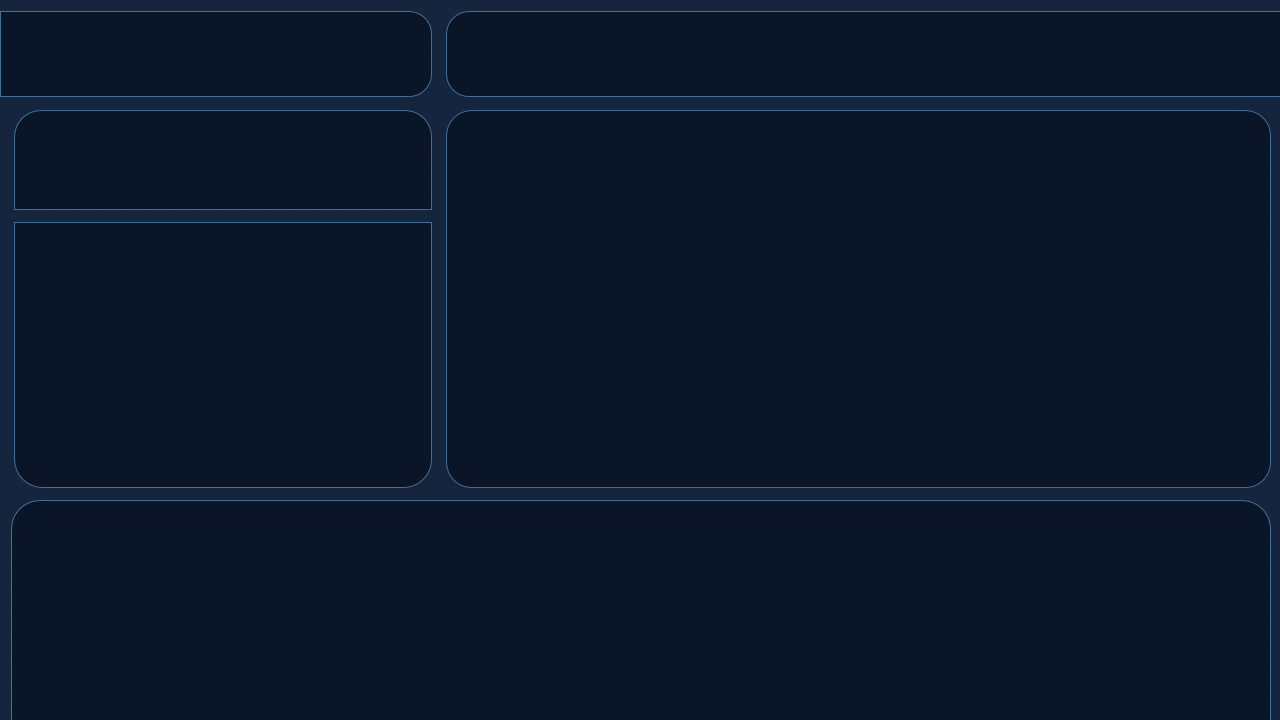

Layout of this report page (visuals, bound fields, positions):
{"tool":"powerbi","page":{"name":"Sammary Page","canvas":[1400,720],"ordinal":0},"visuals":[{"type":"card","fields":{"Values":["calculations.Latest Month Wait List"]},"box":[49.7,128,135.5,52.7],"z":0},{"type":"slicer","fields":{"Values":["calculations.Calc Method"]},"box":[1028.2,102.4,353.8,55.7],"z":1000},{"type":"donutChart","fields":{"Category":["all_data.Case_Type"],"Y":["calculations.Avg/Med Wait List"]},"box":[49.7,266.5,392.9,222.8],"z":2000},{"type":"columnChart","title":"Wait List Analysis - Time Band vs Age Profile","fields":{"Y":["calculations.Avg/Med Wait List"],"Category":["all_data.Time_Bands"],"Series":["all_data.Age_Profile"]},"box":[514.8,185.2,519.4,304.1],"z":3000},{"type":"multiRowCard","fields":{"Values":["specialityMap.Specialty_Name","calculations.Avg/Med Wait List"]},"box":[1061.3,191.2,290.5,313.1],"z":4000},{"type":"card","fields":{"Values":["calculations.NoDataLeft"]},"box":[128,543.4,436.6,147.5],"z":4500},{"type":"card","fields":{"Values":["calculations.NoDataRight"]},"box":[815.9,543.4,436.6,147.5],"z":4750},{"type":"lineChart","title":"Day Case / Inpatient","fields":{"Category":["all_data.Archive_Date"],"Y":["Sum(all_data.Total)"],"Series":["all_data.Case_Type"]},"box":[40.6,510.3,609.7,209.2],"z":5000},{"type":"lineChart","title":"Outpatient","fields":{"Category":["all_data.Archive_Date"],"Y":["Sum(all_data.Total)"],"Series":["all_data.Case_Type"]},"box":[755.7,510.3,611.2,209.2],"z":7000},{"type":"slicer","fields":{"Values":["all_data.Archive_Date"]},"box":[529.9,4.5,281.5,81.3],"z":8000},{"type":"slicer","fields":{"Values":["all_data.Case_Type"]},"box":[832.5,9,228.8,64.7],"z":9000},{"type":"slicer","fields":{"Values":["all_data.Specialty_Name"]},"box":[1094.4,9,287.5,64.7],"z":10000},{"type":"textbox","box":[75.3,49.7,290.5,40.6],"z":11000},{"type":"card","fields":{"Values":["calculations.PY Latest Month Wait List"]},"box":[308.6,128,105.4,52.7],"z":12000},{"type":"card","fields":{"Values":["calculations.Avg/Med Wait List"]},"box":[128,340.2,135.5,75.3],"z":13000},{"type":"textbox","box":[93.3,102.4,290.5,37.6],"z":14000},{"type":"textbox","box":[16.6,169,201.7,37.6],"z":15000},{"type":"textbox","box":[239.4,169,243.9,37.6],"z":16000},{"type":"shape","box":[605.2,543.4,170.1,176.1],"z":17000},{"type":"actionButton","box":[429,48.2,126.5,40.6],"z":18000},{"type":"textbox","box":[408,501.3,566,42.2],"z":19000},{"type":"textbox","box":[1071.8,158.1,271,33.1],"z":20000},{"type":"card","fields":{"Values":["calculations.Dynamic Title"]},"box":[597.6,105.4,355.3,52.7],"z":21000},{"type":"textbox","box":[72.3,233.3,349.2,46.7],"z":22000},{"type":"textbox","box":[0,10.5,442.6,45.2],"z":23000}]}

Visuals, with their boxes on the page's 1400x720 design canvas (x1, y1, x2, y2). These are canvas units, not pixel positions in the 1280x720 screenshot, which may show the page scaled, cropped or inside an application window:
card - calculations.Latest Month Wait List: (50, 128, 185, 181)
slicer - calculations.Calc Method: (1028, 102, 1382, 158)
donutChart - all_data.Case_Type x calculations.Avg/Med Wait List: (50, 266, 443, 489)
"Wait List Analysis - Time Band vs Age Profile" columnChart: (515, 185, 1034, 489)
multiRowCard - specialityMap.Specialty_Name x calculations.Avg/Med Wait List: (1061, 191, 1352, 504)
card - calculations.NoDataLeft: (128, 543, 565, 691)
card - calculations.NoDataRight: (816, 543, 1252, 691)
"Day Case / Inpatient" lineChart: (41, 510, 650, 720)
"Outpatient" lineChart: (756, 510, 1367, 720)
slicer - all_data.Archive_Date: (530, 4, 811, 86)
slicer - all_data.Case_Type: (832, 9, 1061, 74)
slicer - all_data.Specialty_Name: (1094, 9, 1382, 74)
textbox: (75, 50, 366, 90)
card - calculations.PY Latest Month Wait List: (309, 128, 414, 181)
card - calculations.Avg/Med Wait List: (128, 340, 264, 416)
textbox: (93, 102, 384, 140)
textbox: (17, 169, 218, 207)
textbox: (239, 169, 483, 207)
shape: (605, 543, 775, 720)
actionButton: (429, 48, 556, 89)
textbox: (408, 501, 974, 544)
textbox: (1072, 158, 1343, 191)
card - calculations.Dynamic Title: (598, 105, 953, 158)
textbox: (72, 233, 422, 280)
textbox: (0, 10, 443, 56)
